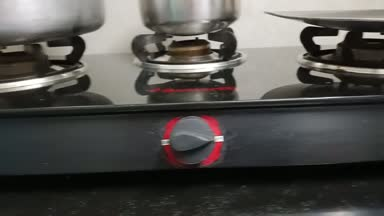flame_gas_off: (129, 24, 261, 170)
